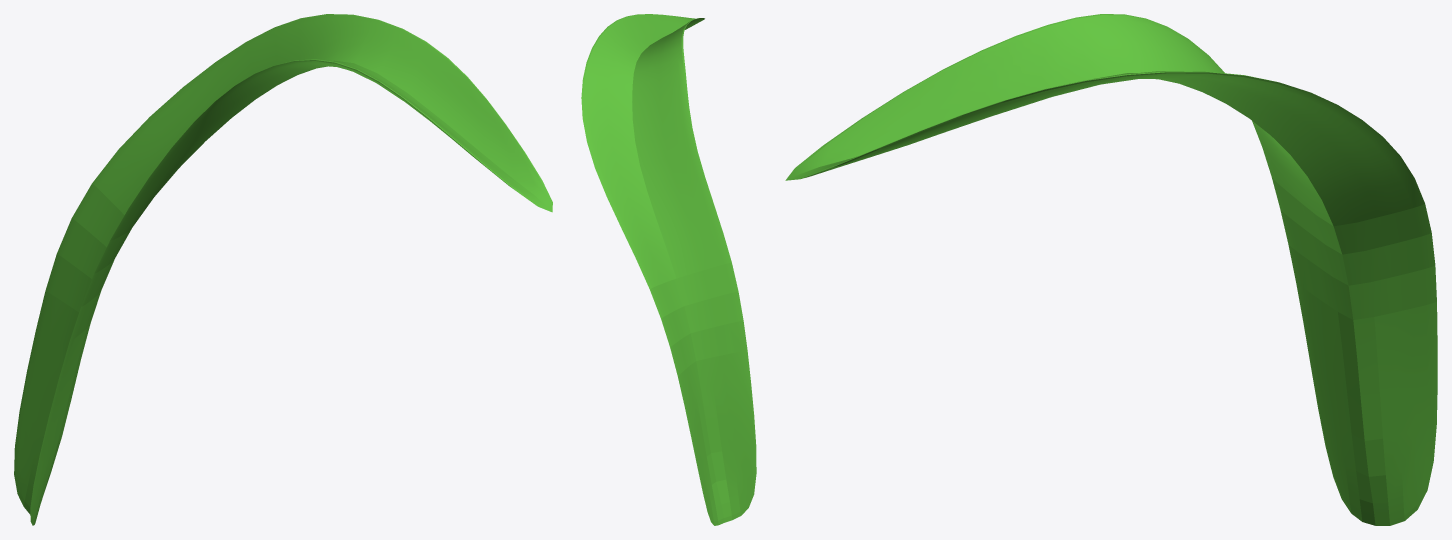
File: rumput-1.fbx
3 renders of one model, left to right at view 1: azimuth 30°, elevation 25°; view 2: azimuth 150°, elevation 25°; view 3: azimuth 270°, elevation 25°, orthographic. The views are drawn at different scales.
Visible parts, largest first — view 1: Plane.004; view 2: Plane.004; view 3: Plane.004.
Part boxes in pixels (left/top/right/bottom): Plane.004: left=14, top=14, right=552, bottom=525; Plane.004: left=581, top=14, right=756, bottom=525; Plane.004: left=785, top=14, right=1437, bottom=525.
Bounding box in the file's own units: 105 × 165 × 159.
